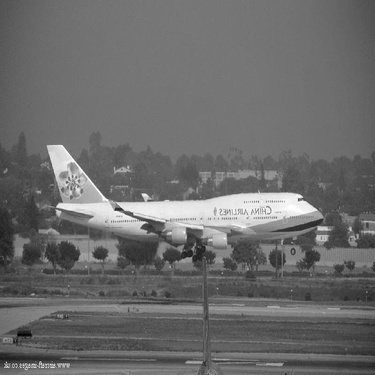airplane: (28, 127, 330, 276)
